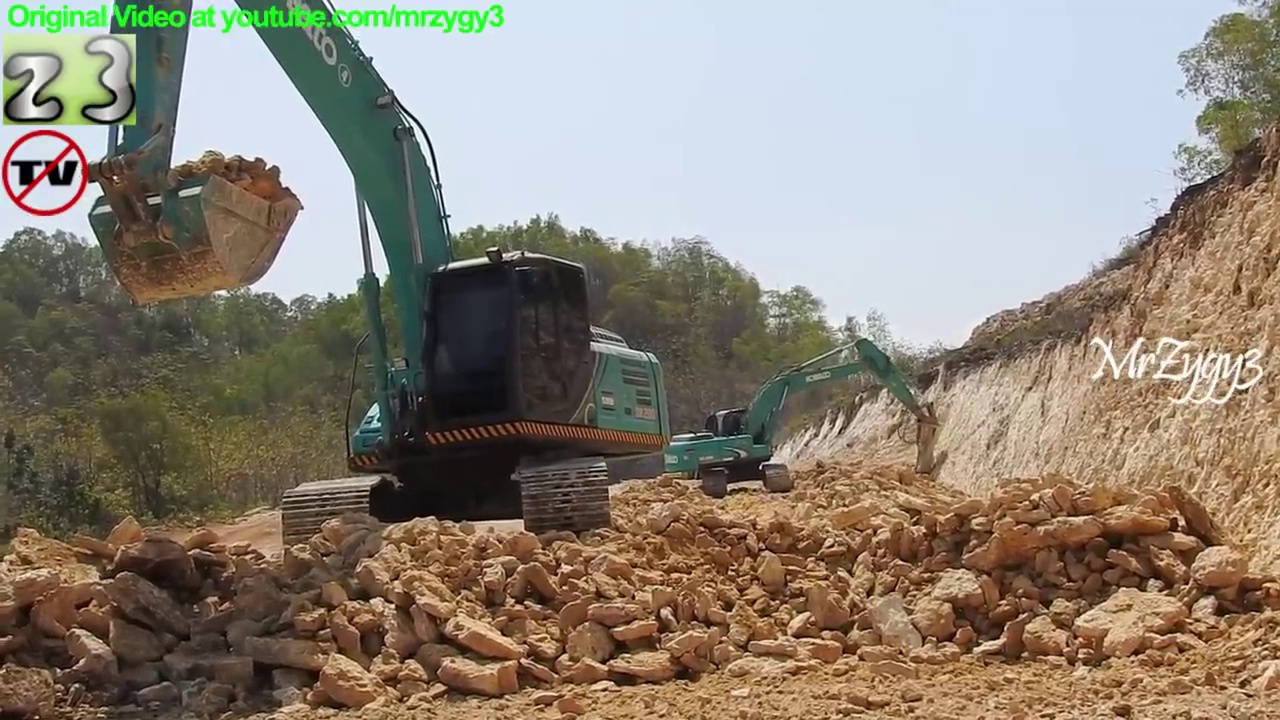excavator: (77, 1, 679, 571)
excavator breaker: (660, 334, 946, 503)
